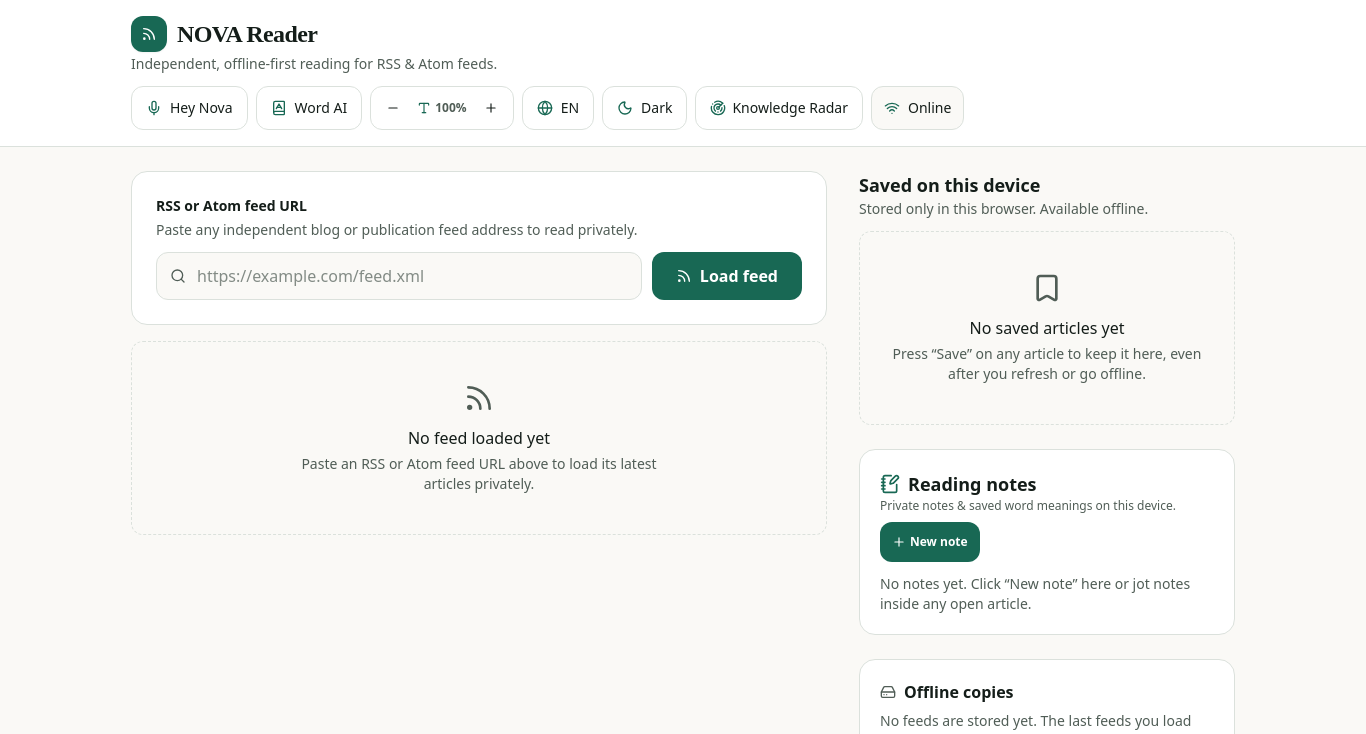
Test: HomePage – loading and success › shows an empty state for a feed with no articles
Type "https://mock.example/feed.xml" into the field labelled "RSS or Atom feed URL".
click(399, 276); type("https://mock.example/feed.xml")  # box 156,252 -> 642,300
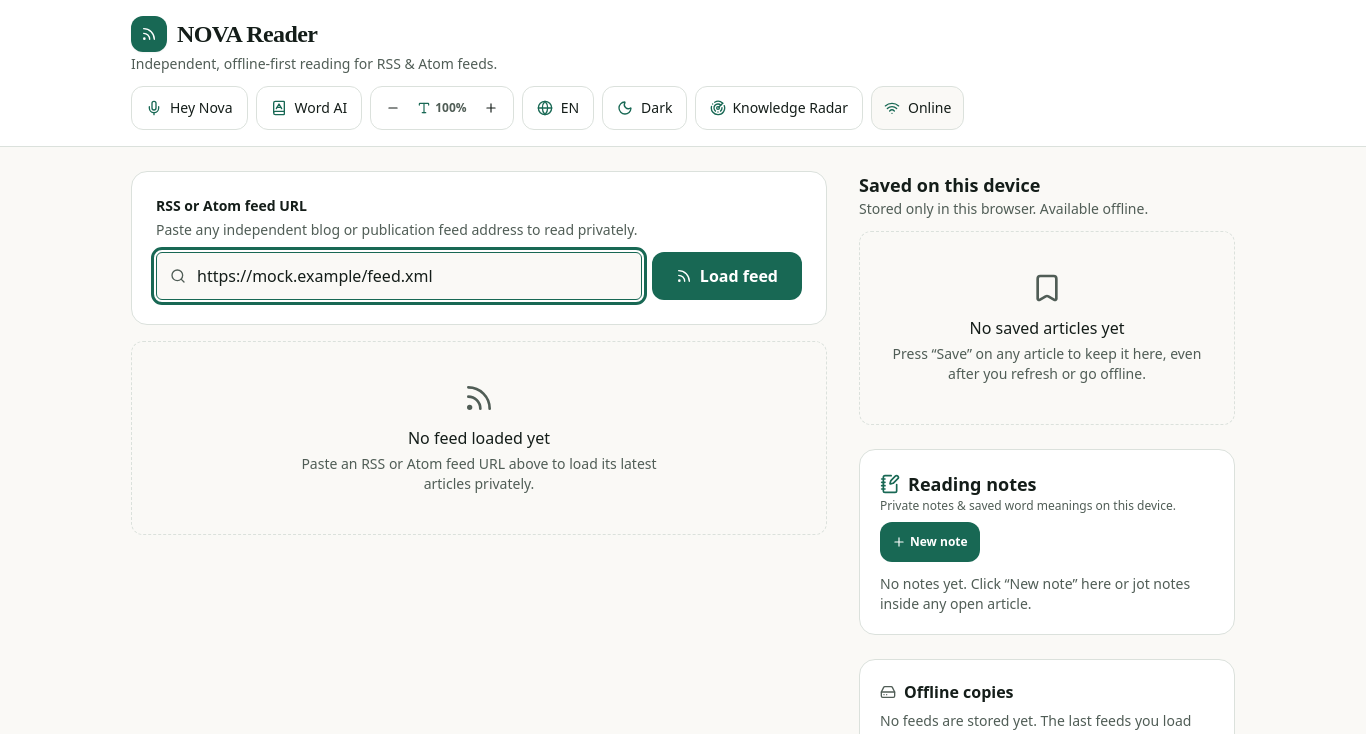
Click the button "Load feed".
click(727, 276)  # box 652,252 -> 802,300
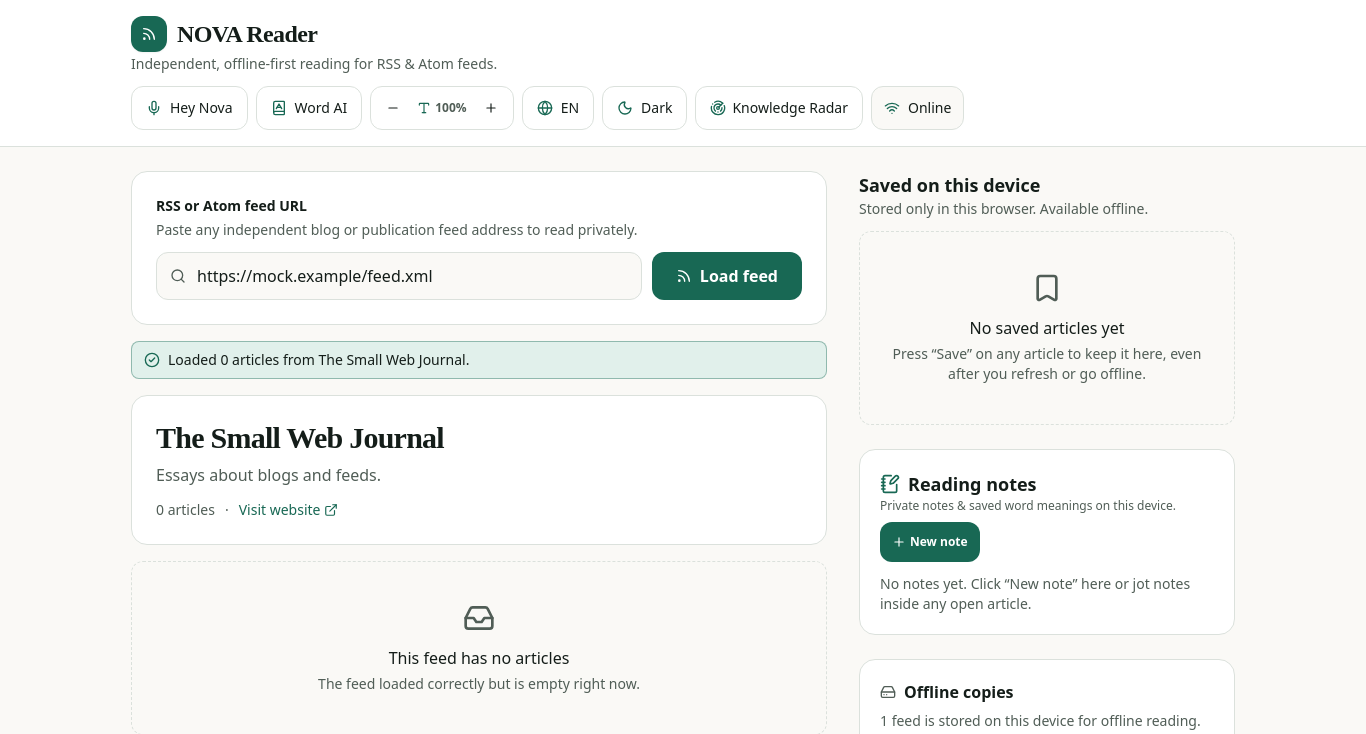
Expected: the text "This feed has no articles" is shown, 389,646 -> 569,670
Expected: the text "Loaded 0 articles from The Small Web Journal." is shown, 168,350 -> 469,370
